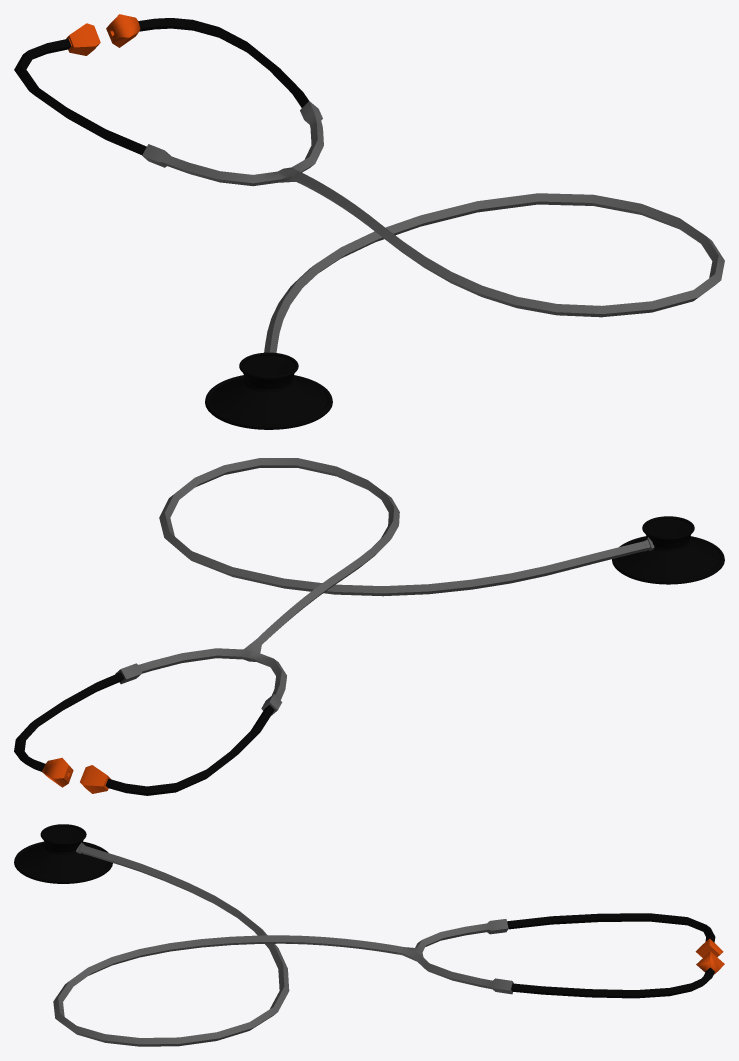
The model's file is Stethoscope.fbx.
The picture shows the model from 3 angles, top to bottom: view 1: azimuth 30°, elevation 25°; view 2: azimuth 150°, elevation 25°; view 3: azimuth 270°, elevation 25°; orthographic projection. The views are drawn at different scales.
Visible parts, largest first — view 1: Sweep_2, Sweep, Cylinder, Torus; view 2: Sweep_2, Sweep, Cylinder, Torus; view 3: Sweep_2, Sweep, Cylinder, Torus.
Part boxes in pixels (left/top/right/bottom): Sweep_2: left=142, top=101, right=724, bottom=352; Sweep: left=14, top=14, right=308, bottom=154; Cylinder: left=205, top=355, right=332, bottom=429; Torus: left=205, top=375, right=332, bottom=429; Sweep_2: left=115, top=458, right=654, bottom=715; Sweep: left=14, top=672, right=274, bottom=795; Cylinder: left=612, top=519, right=724, bottom=583; Torus: left=612, top=536, right=724, bottom=584; Sweep_2: left=53, top=842, right=513, bottom=1046; Sweep: left=507, top=913, right=724, bottom=998; Cylinder: left=14, top=826, right=112, bottom=883; Torus: left=14, top=841, right=112, bottom=883.
Bounding box in the file's own units: 405 × 38.86 × 588.
